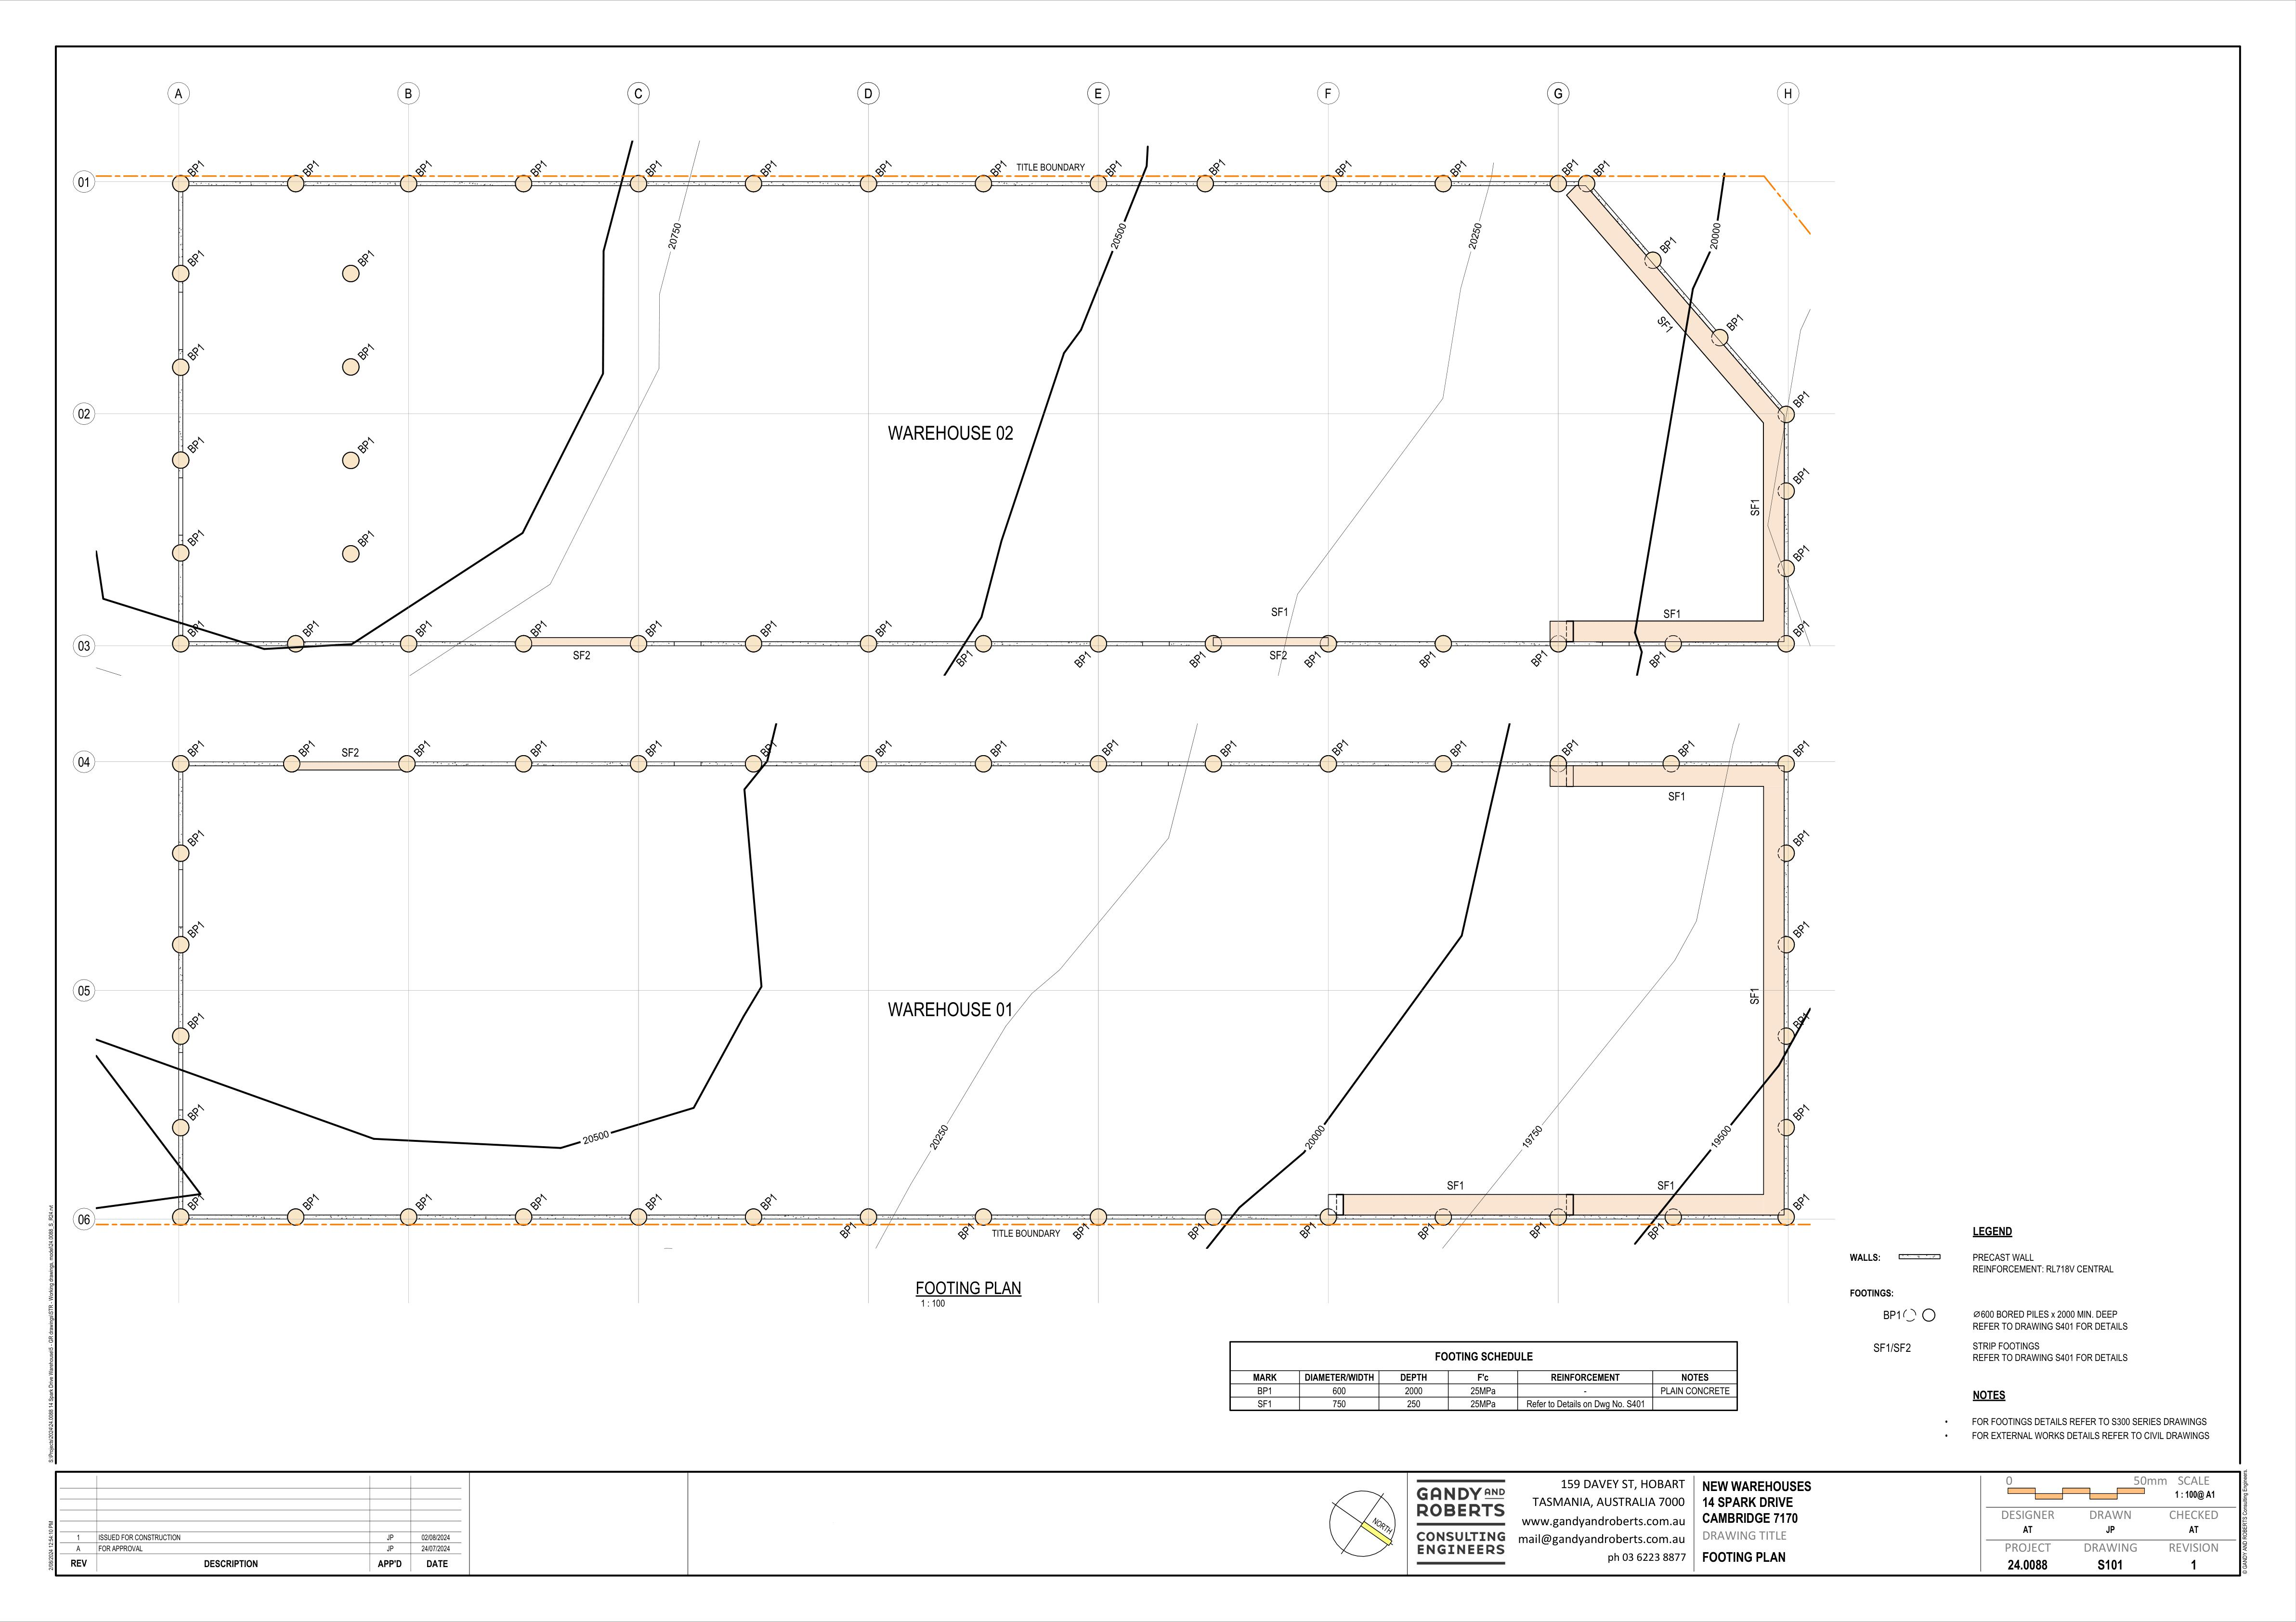BP1: (1785, 1002, 1822, 1036), (398, 1190, 441, 1216), (1783, 734, 1815, 765), (1787, 922, 1822, 950), (751, 1188, 788, 1211), (637, 616, 667, 642), (950, 1218, 981, 1243), (830, 1220, 864, 1243), (1645, 646, 1671, 674), (757, 736, 785, 762), (871, 728, 899, 755), (1178, 1218, 1213, 1239), (183, 736, 214, 758), (1668, 741, 1699, 764), (1634, 1224, 1666, 1246), (1794, 823, 1819, 851), (1448, 151, 1471, 181), (521, 1185, 551, 1208), (635, 1188, 671, 1208), (351, 244, 377, 269), (188, 825, 214, 850), (177, 1194, 214, 1211), (295, 154, 323, 177), (1185, 651, 1215, 672), (1324, 737, 1353, 758), (1329, 153, 1353, 177), (753, 616, 778, 641), (528, 620, 553, 644), (184, 339, 209, 363), (186, 242, 211, 267), (755, 154, 781, 177), (1720, 309, 1747, 332), (293, 618, 319, 641), (186, 435, 212, 458), (642, 732, 665, 758), (1555, 737, 1582, 760), (186, 1099, 209, 1125), (1789, 388, 1817, 409), (181, 527, 209, 548), (1071, 651, 1101, 671), (414, 734, 437, 758), (1073, 1220, 1097, 1243), (304, 1188, 328, 1211), (186, 156, 209, 179), (1787, 616, 1810, 639), (1527, 653, 1550, 676), (1654, 235, 1678, 256), (528, 734, 549, 758), (1789, 1101, 1815, 1120), (416, 154, 437, 177), (1204, 161, 1227, 183), (1557, 154, 1578, 177), (184, 915, 205, 937), (1099, 736, 1122, 757), (1789, 1192, 1810, 1215), (1297, 1220, 1320, 1241), (1301, 651, 1325, 671), (358, 432, 383, 451), (186, 1013, 211, 1032), (355, 342, 381, 360), (355, 532, 381, 549), (527, 158, 548, 179), (1592, 158, 1613, 179), (987, 154, 1006, 177), (1789, 542, 1812, 562), (874, 618, 897, 637), (985, 736, 1008, 755), (953, 648, 974, 667), (186, 618, 207, 637), (1415, 1220, 1436, 1239), (298, 741, 316, 764), (1532, 1220, 1550, 1243), (1448, 739, 1467, 758), (1422, 650, 1439, 671), (644, 158, 662, 177), (1104, 160, 1122, 179), (1797, 465, 1813, 486), (876, 160, 893, 177), (1222, 739, 1238, 757), (414, 621, 430, 637)
SF1: (1738, 972, 1766, 1013), (1266, 593, 1297, 623), (1443, 1169, 1478, 1194), (1662, 785, 1696, 804), (1655, 307, 1676, 334), (1647, 1173, 1680, 1188), (1745, 495, 1762, 520), (1661, 604, 1687, 620)
SF2: (565, 646, 599, 667), (341, 741, 367, 758), (1269, 646, 1290, 665)
